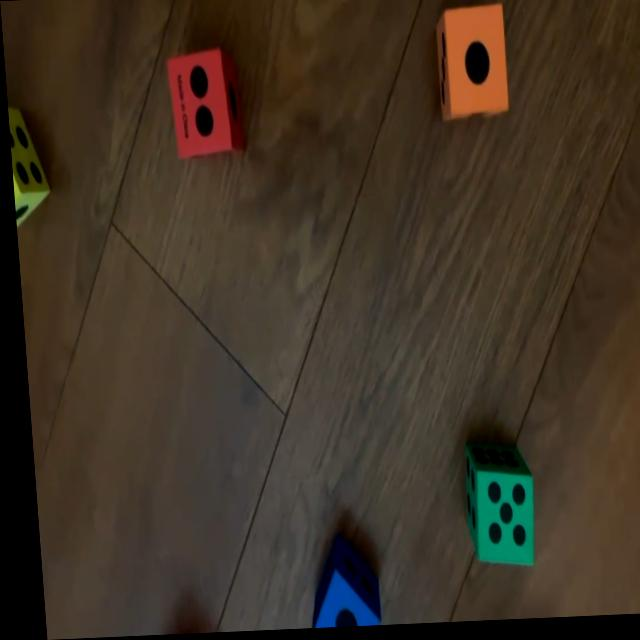cube: (453, 445, 532, 571), (165, 48, 242, 160), (298, 540, 372, 631)
